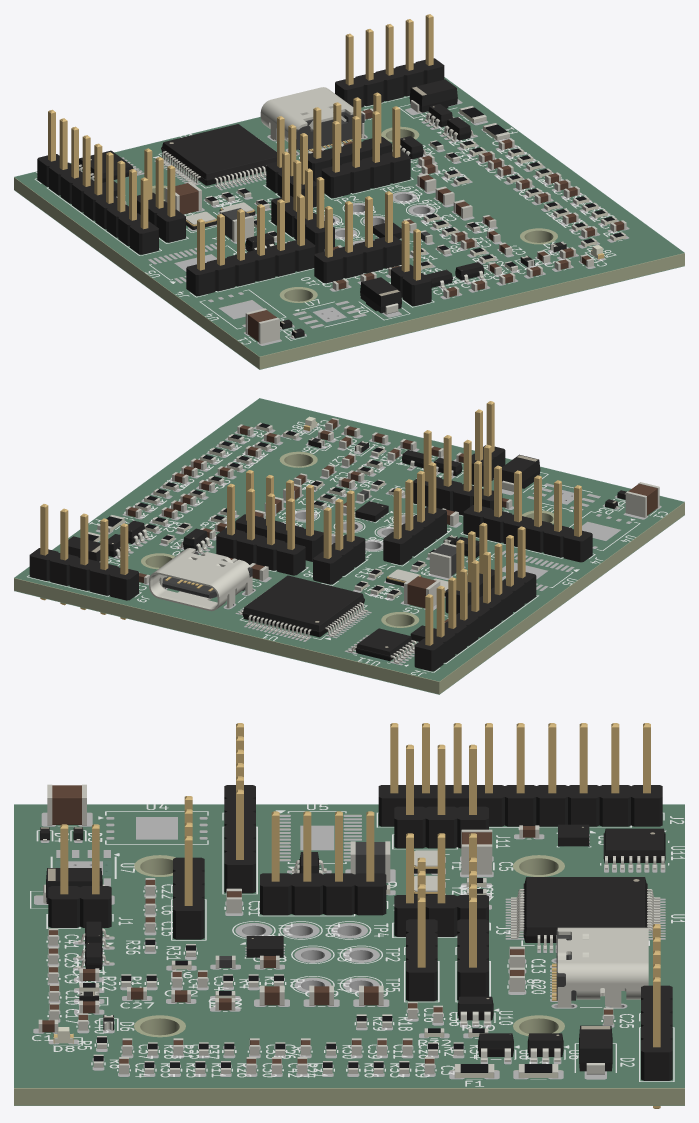
The model's file is gofly_fc_preview.glb.
3 renders of one model, top to bottom at view 1: azimuth 30°, elevation 25°; view 2: azimuth 150°, elevation 25°; view 3: azimuth 270°, elevation 25°, orthographic. The views are drawn at different scales.
Visible parts, largest first — view 1: =>[0:1:1:58], =>[0:1:1:56], =>[0:1:1:21] (×4), =>[0:1:1:13], =>[0:1:1:54], =>[0:1:1:27], =>[0:1:1:55], =>[0:1:1:15], =>[0:1:1:51], =>[0:1:1:39] (×2), =>[0:1:1:49], =>[0:1:1:29] (×2) (+5 smaller); view 2: =>[0:1:1:58], =>[0:1:1:56], =>[0:1:1:21] (×4), =>[0:1:1:13], =>[0:1:1:54], =>[0:1:1:27], =>[0:1:1:51], =>[0:1:1:15], =>[0:1:1:49], =>[0:1:1:55], =>[0:1:1:39] (×2), =>[0:1:1:17] (×2) (+7 smaller); view 3: =>[0:1:1:56], =>[0:1:1:58], =>[0:1:1:21] (×4), =>[0:1:1:13], =>[0:1:1:54], =>[0:1:1:55], =>[0:1:1:39] (×2), =>[0:1:1:15], =>[0:1:1:49], =>[0:1:1:27], =>[0:1:1:53], =>[0:1:1:51] (+11 smaller).
Boxes of the visible parts, x1,y1,x2,y2 form: =>[0:1:1:58]: [14, 78, 684, 369]; =>[0:1:1:56]: [14, 77, 684, 356]; =>[0:1:1:21] (×4): [271, 92, 410, 283]; =>[0:1:1:13]: [37, 109, 158, 254]; =>[0:1:1:54]: [79, 99, 629, 345]; =>[0:1:1:27]: [186, 194, 315, 295]; =>[0:1:1:55]: [34, 96, 622, 344]; =>[0:1:1:15]: [161, 124, 276, 188]; =>[0:1:1:51]: [335, 14, 444, 107]; =>[0:1:1:39] (×2): [137, 116, 316, 242]; =>[0:1:1:49]: [260, 87, 364, 151]; =>[0:1:1:29] (×2): [360, 79, 457, 314]; =>[0:1:1:58]: [14, 399, 684, 694]; =>[0:1:1:56]: [14, 398, 684, 681]; =>[0:1:1:21] (×4): [216, 430, 502, 575]; =>[0:1:1:13]: [414, 526, 536, 671]; =>[0:1:1:54]: [96, 424, 661, 665]; =>[0:1:1:27]: [463, 460, 592, 562]; =>[0:1:1:51]: [29, 504, 138, 619]; =>[0:1:1:15]: [239, 575, 368, 639]; =>[0:1:1:49]: [149, 548, 252, 611]; =>[0:1:1:55]: [27, 420, 667, 675]; =>[0:1:1:39] (×2): [313, 490, 494, 614]; =>[0:1:1:17] (×2): [404, 482, 659, 608]; =>[0:1:1:56]: [14, 804, 684, 1087]; =>[0:1:1:58]: [14, 805, 684, 1105]; =>[0:1:1:21] (×4): [173, 796, 488, 1001]; =>[0:1:1:13]: [378, 723, 662, 826]; =>[0:1:1:54]: [33, 812, 665, 1079]; =>[0:1:1:55]: [30, 804, 684, 1086]; =>[0:1:1:39] (×2): [394, 744, 488, 936]; =>[0:1:1:15]: [511, 877, 660, 950]; =>[0:1:1:49]: [552, 927, 648, 1007]; =>[0:1:1:27]: [224, 723, 255, 893]; =>[0:1:1:53]: [48, 824, 111, 927]; =>[0:1:1:51]: [641, 924, 672, 1108].
Bounding box in the file's own units: 0.054 × 0.0115 × 0.054.
